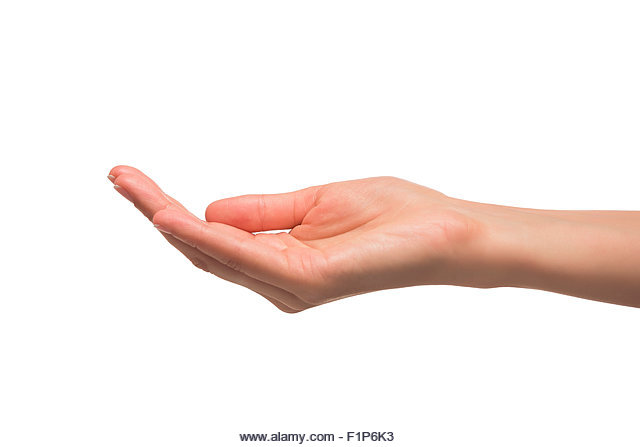hand: (68, 130, 499, 318)
